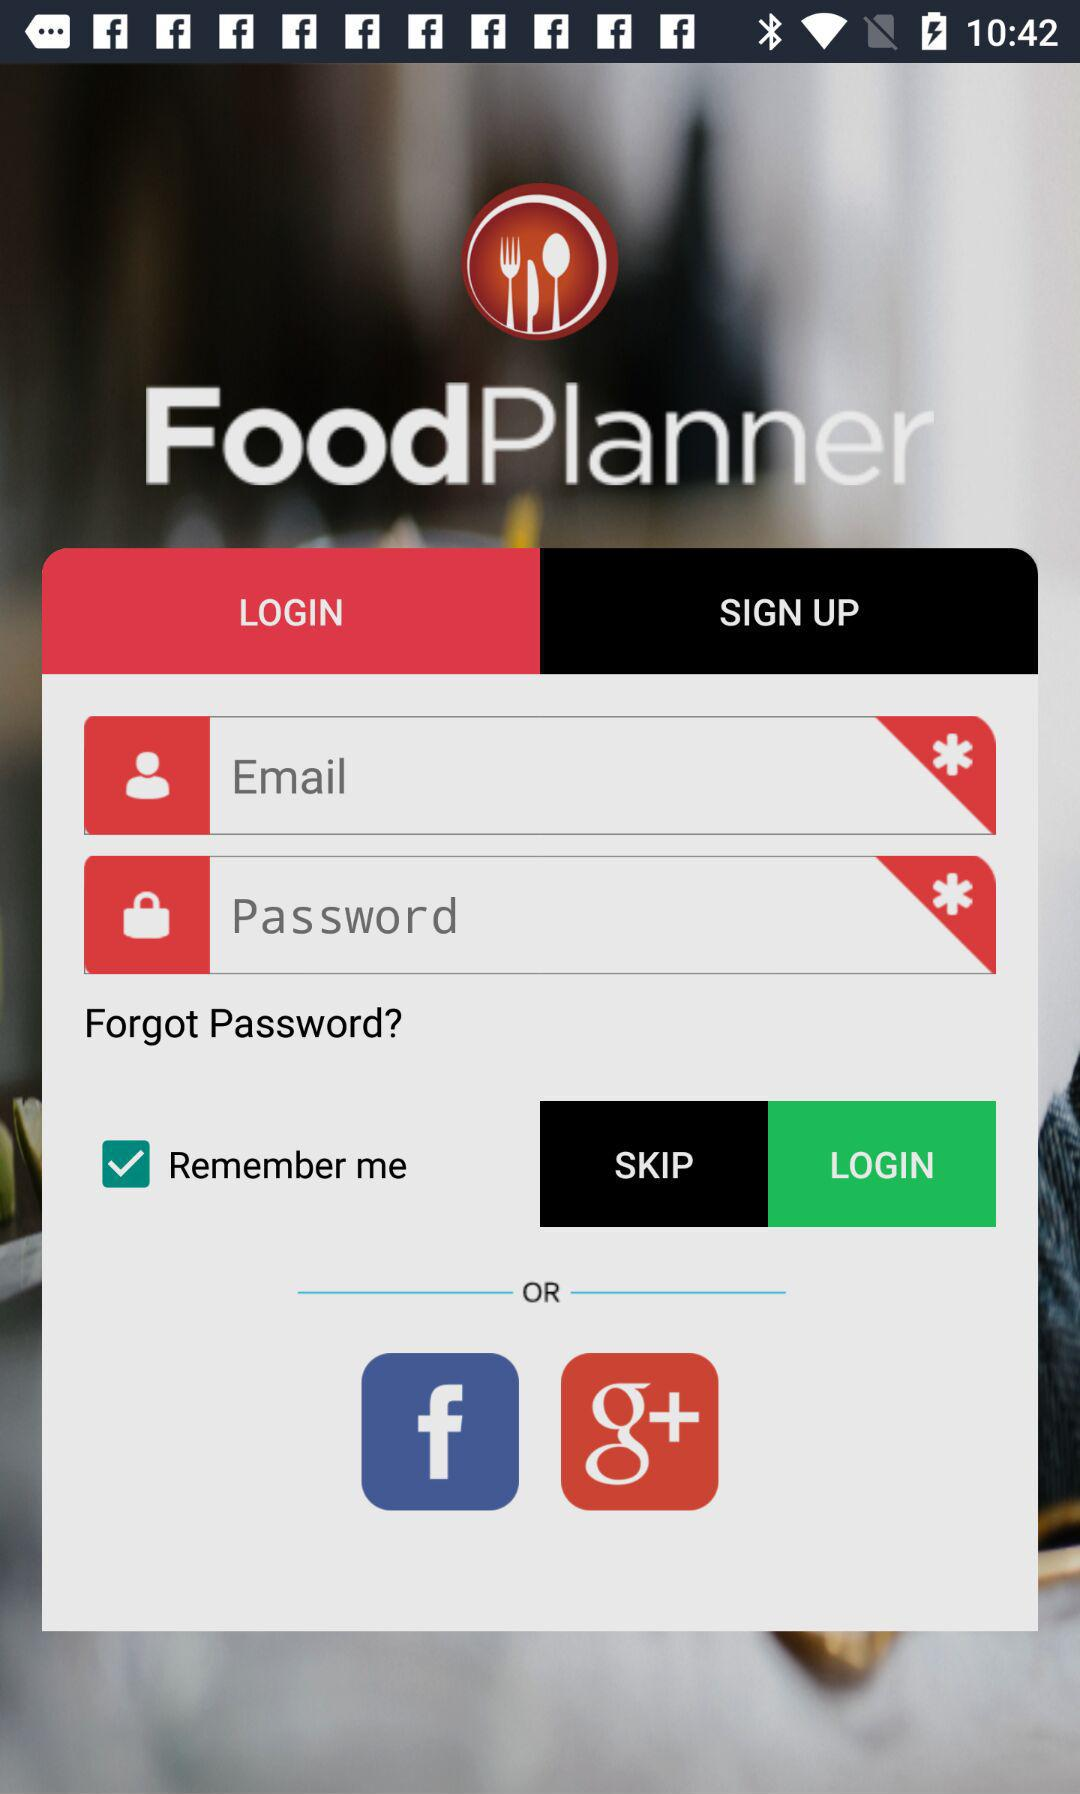CheckedTextView: (102, 1139, 407, 1190)
EditText: (85, 855, 997, 975), (85, 716, 995, 835)
Icon: (361, 1352, 520, 1512), (561, 1352, 720, 1511), (122, 892, 172, 941), (124, 750, 172, 800)
Image: (460, 182, 620, 343)
Text: (145, 381, 937, 491), (87, 1007, 402, 1047), (234, 897, 456, 935), (170, 1149, 407, 1180), (234, 757, 346, 798), (521, 1280, 562, 1304)
TextButton: (42, 548, 541, 675), (541, 548, 1039, 675), (767, 1101, 997, 1228), (541, 1101, 767, 1228)
UpperTaskBar: (1, 1, 1080, 64)
